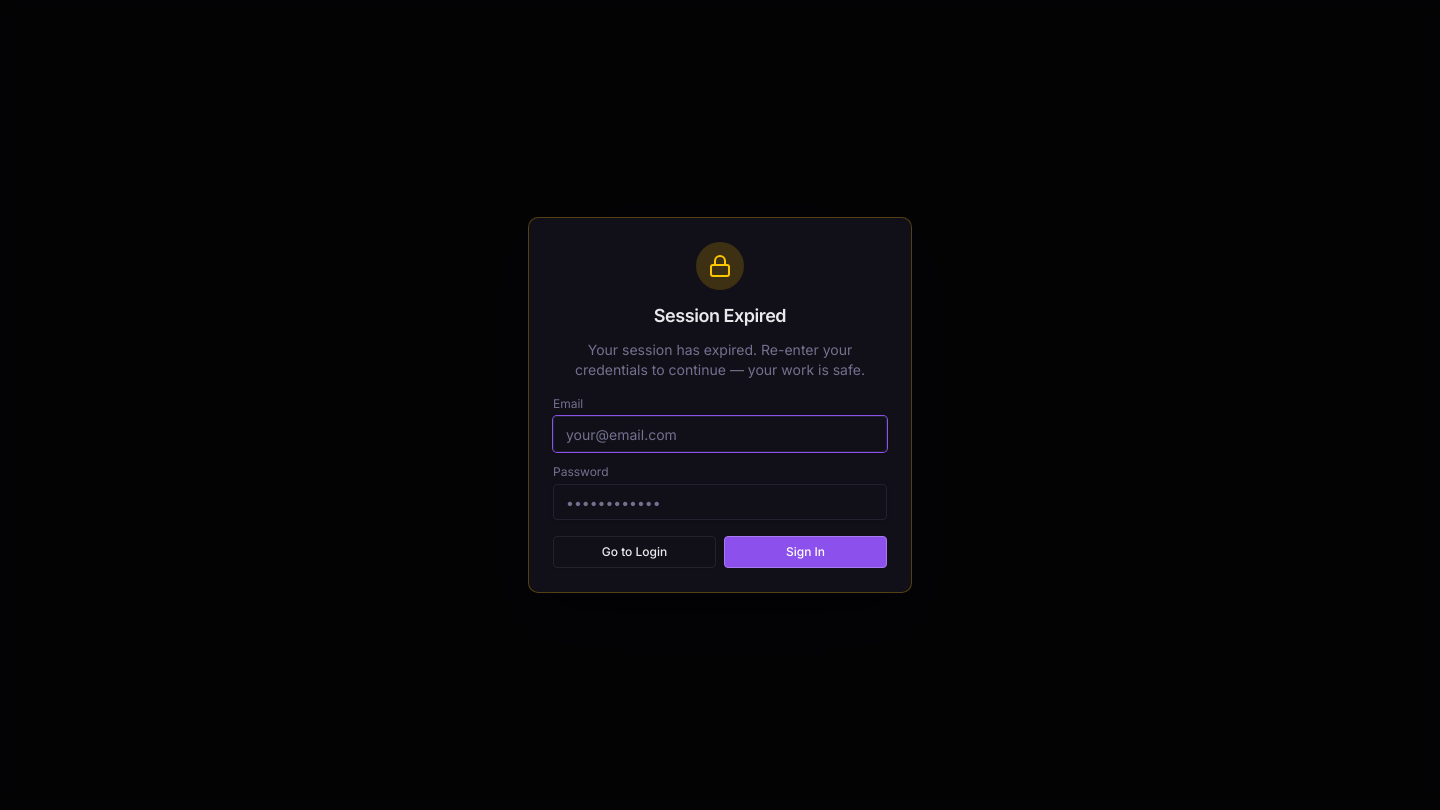
Test: SessionExpiryModal › shows error message when login attempt fails with bad credentials
Expected: the text "Session Expired" is shown, [654, 305, 786, 326]
Type "user@example.com" into the field with placeholder "your@email.com". click: (720, 434)
box: [553, 416, 887, 452]
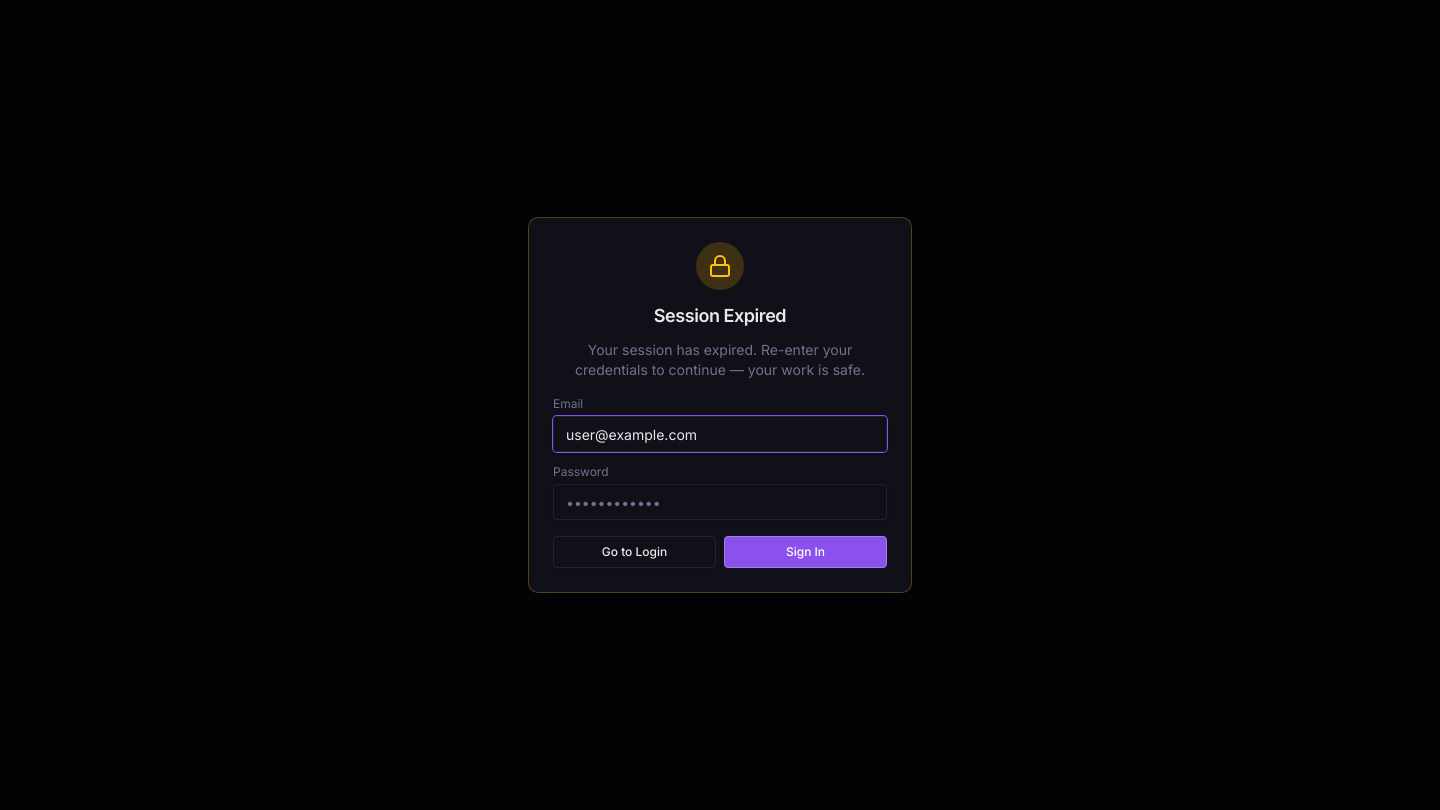
Type "wrongpassword" into the password field with placeholder "••••••••••••". click: (720, 502)
box: [553, 484, 887, 520]
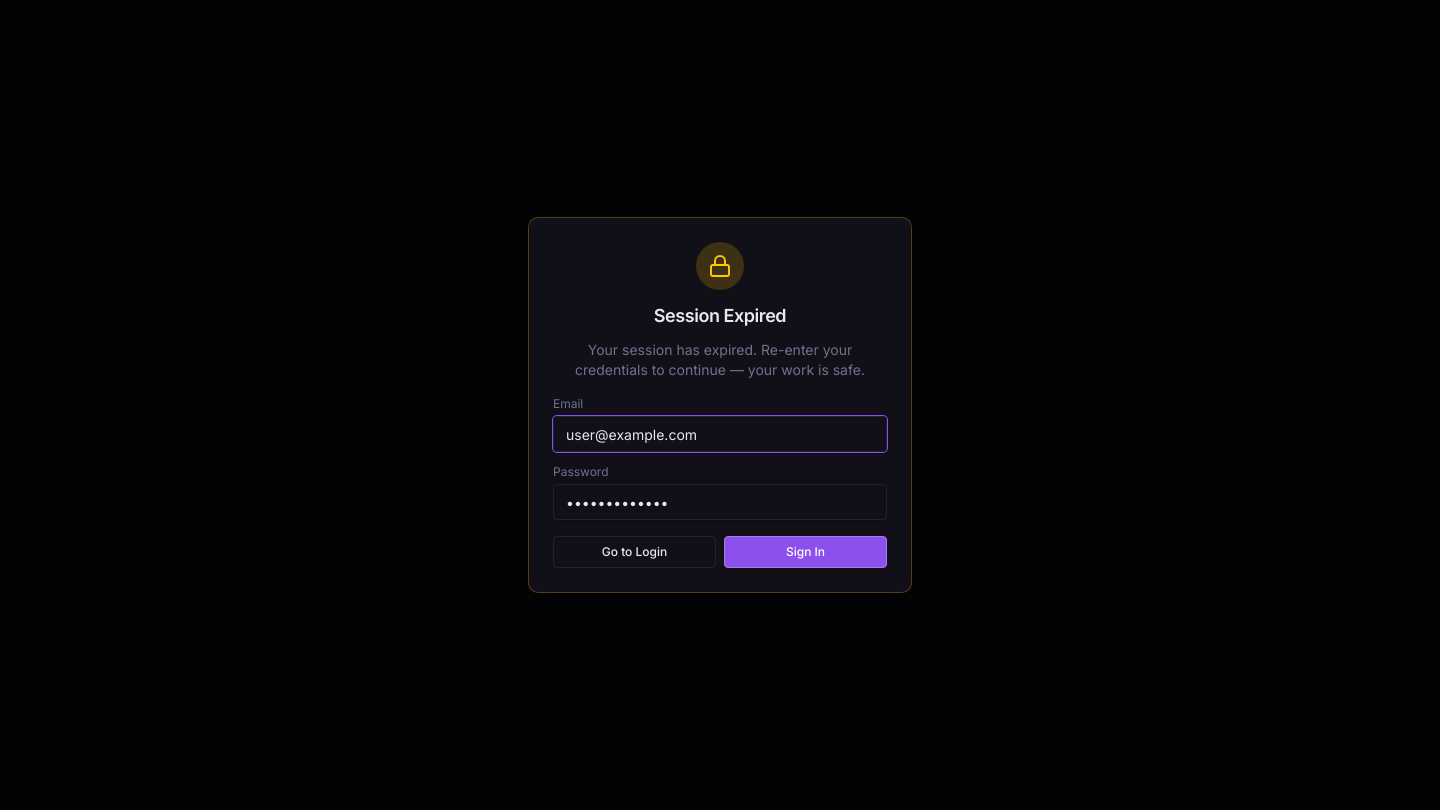
Click the button "Sign In". click: (806, 552)
box: [724, 536, 887, 568]
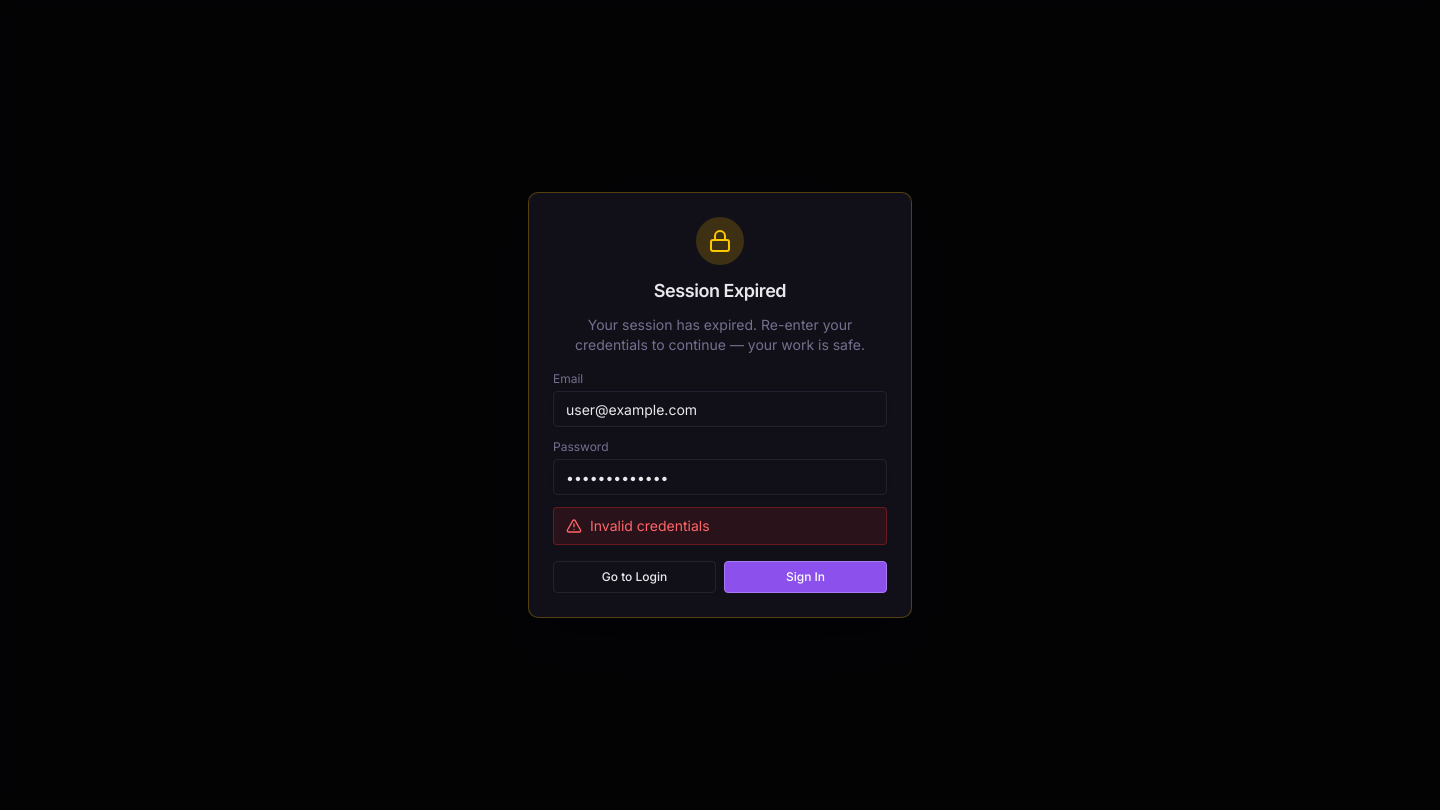
Expected: the text "Invalid credentials" is shown, [553, 507, 887, 545]
